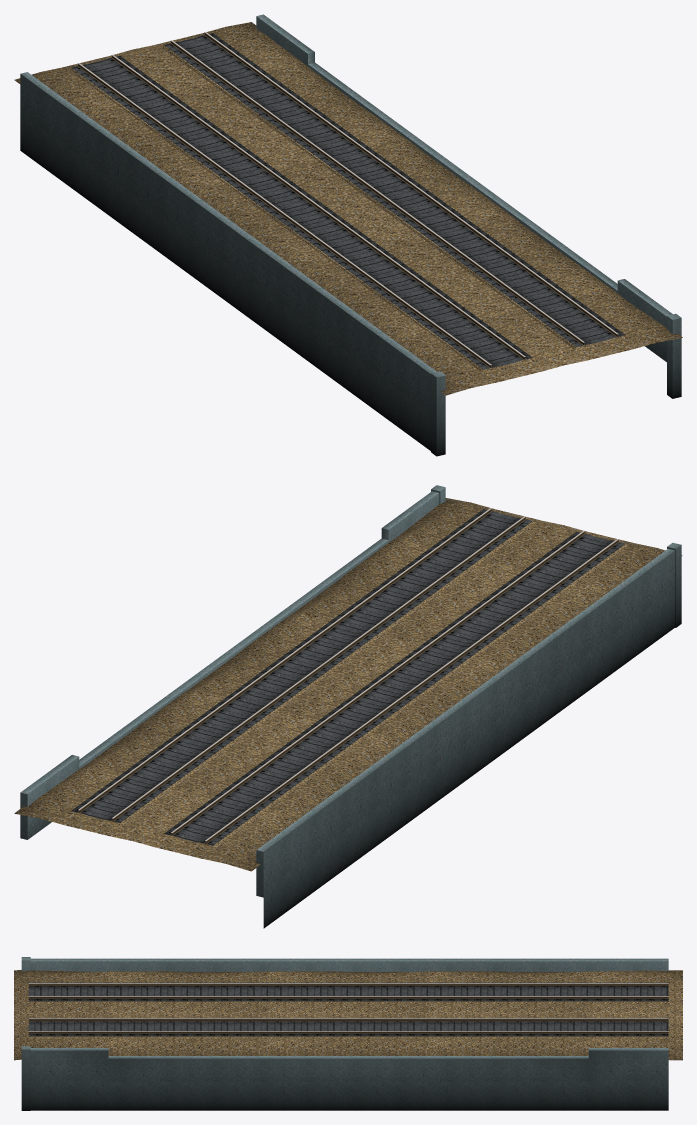
File: 2RAIL_JARI_L_IN.glb
The picture shows the model from 3 angles, top to bottom: view 1: azimuth 30°, elevation 25°; view 2: azimuth 150°, elevation 25°; view 3: azimuth 270°, elevation 25°; orthographic projection. The views are drawn at different scales.
Visible parts, largest first — view 1: obj6, V00, last; view 2: obj6, V00, last; view 3: obj6, V00, last.
Part boxes in pixels (x1,y1,x2,y2): obj6: (14, 14, 682, 395); V00: (20, 72, 436, 450); last: (431, 313, 681, 456); obj6: (14, 491, 682, 871); V00: (256, 549, 674, 928); last: (431, 485, 681, 627); obj6: (14, 970, 682, 1110); V00: (30, 958, 668, 971); last: (21, 957, 30, 1110).
Size of the model in its own units: 34.26 by 10.56 by 105.
6 materials, 5 textured.
